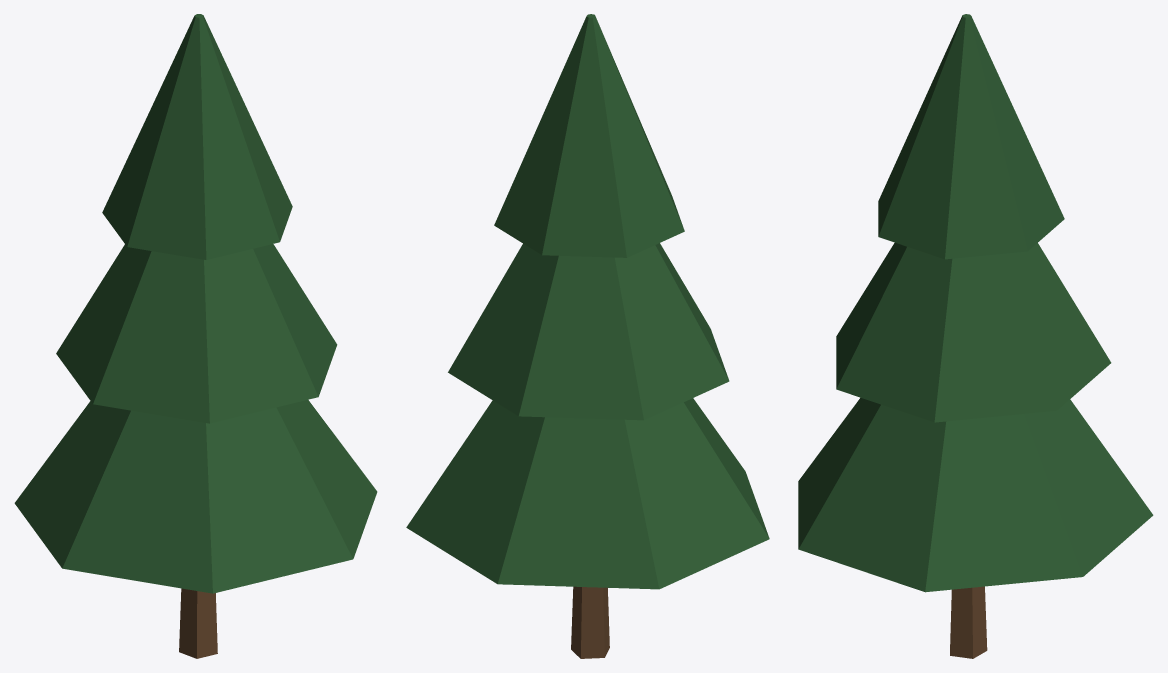
Rendered from pine_low.glb.
The picture shows the model from 3 angles, left to right: view 1: azimuth 30°, elevation 25°; view 2: azimuth 150°, elevation 25°; view 3: azimuth 270°, elevation 25°; orthographic projection.
Visible parts, largest first — view 1: pine_low; view 2: pine_low; view 3: pine_low.
Boxes of the visible parts, x1,y1,x2,y2 form: pine_low: [14, 14, 377, 658]; pine_low: [406, 14, 769, 658]; pine_low: [798, 14, 1153, 658].
Size of the model in its own units: 3.9 by 7.5 by 3.8.
